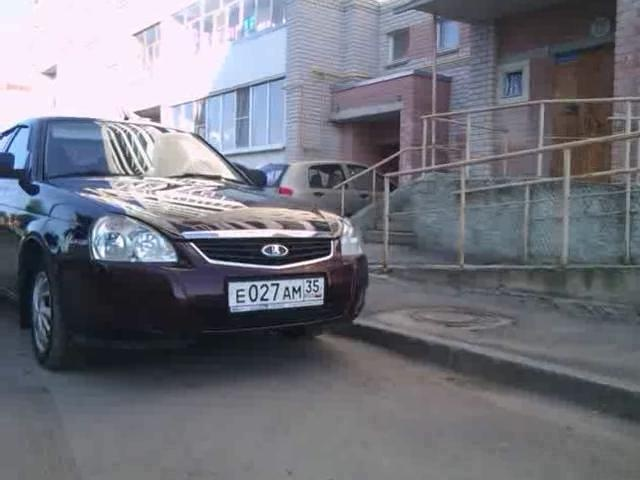car license plate: (224, 273, 330, 315)
